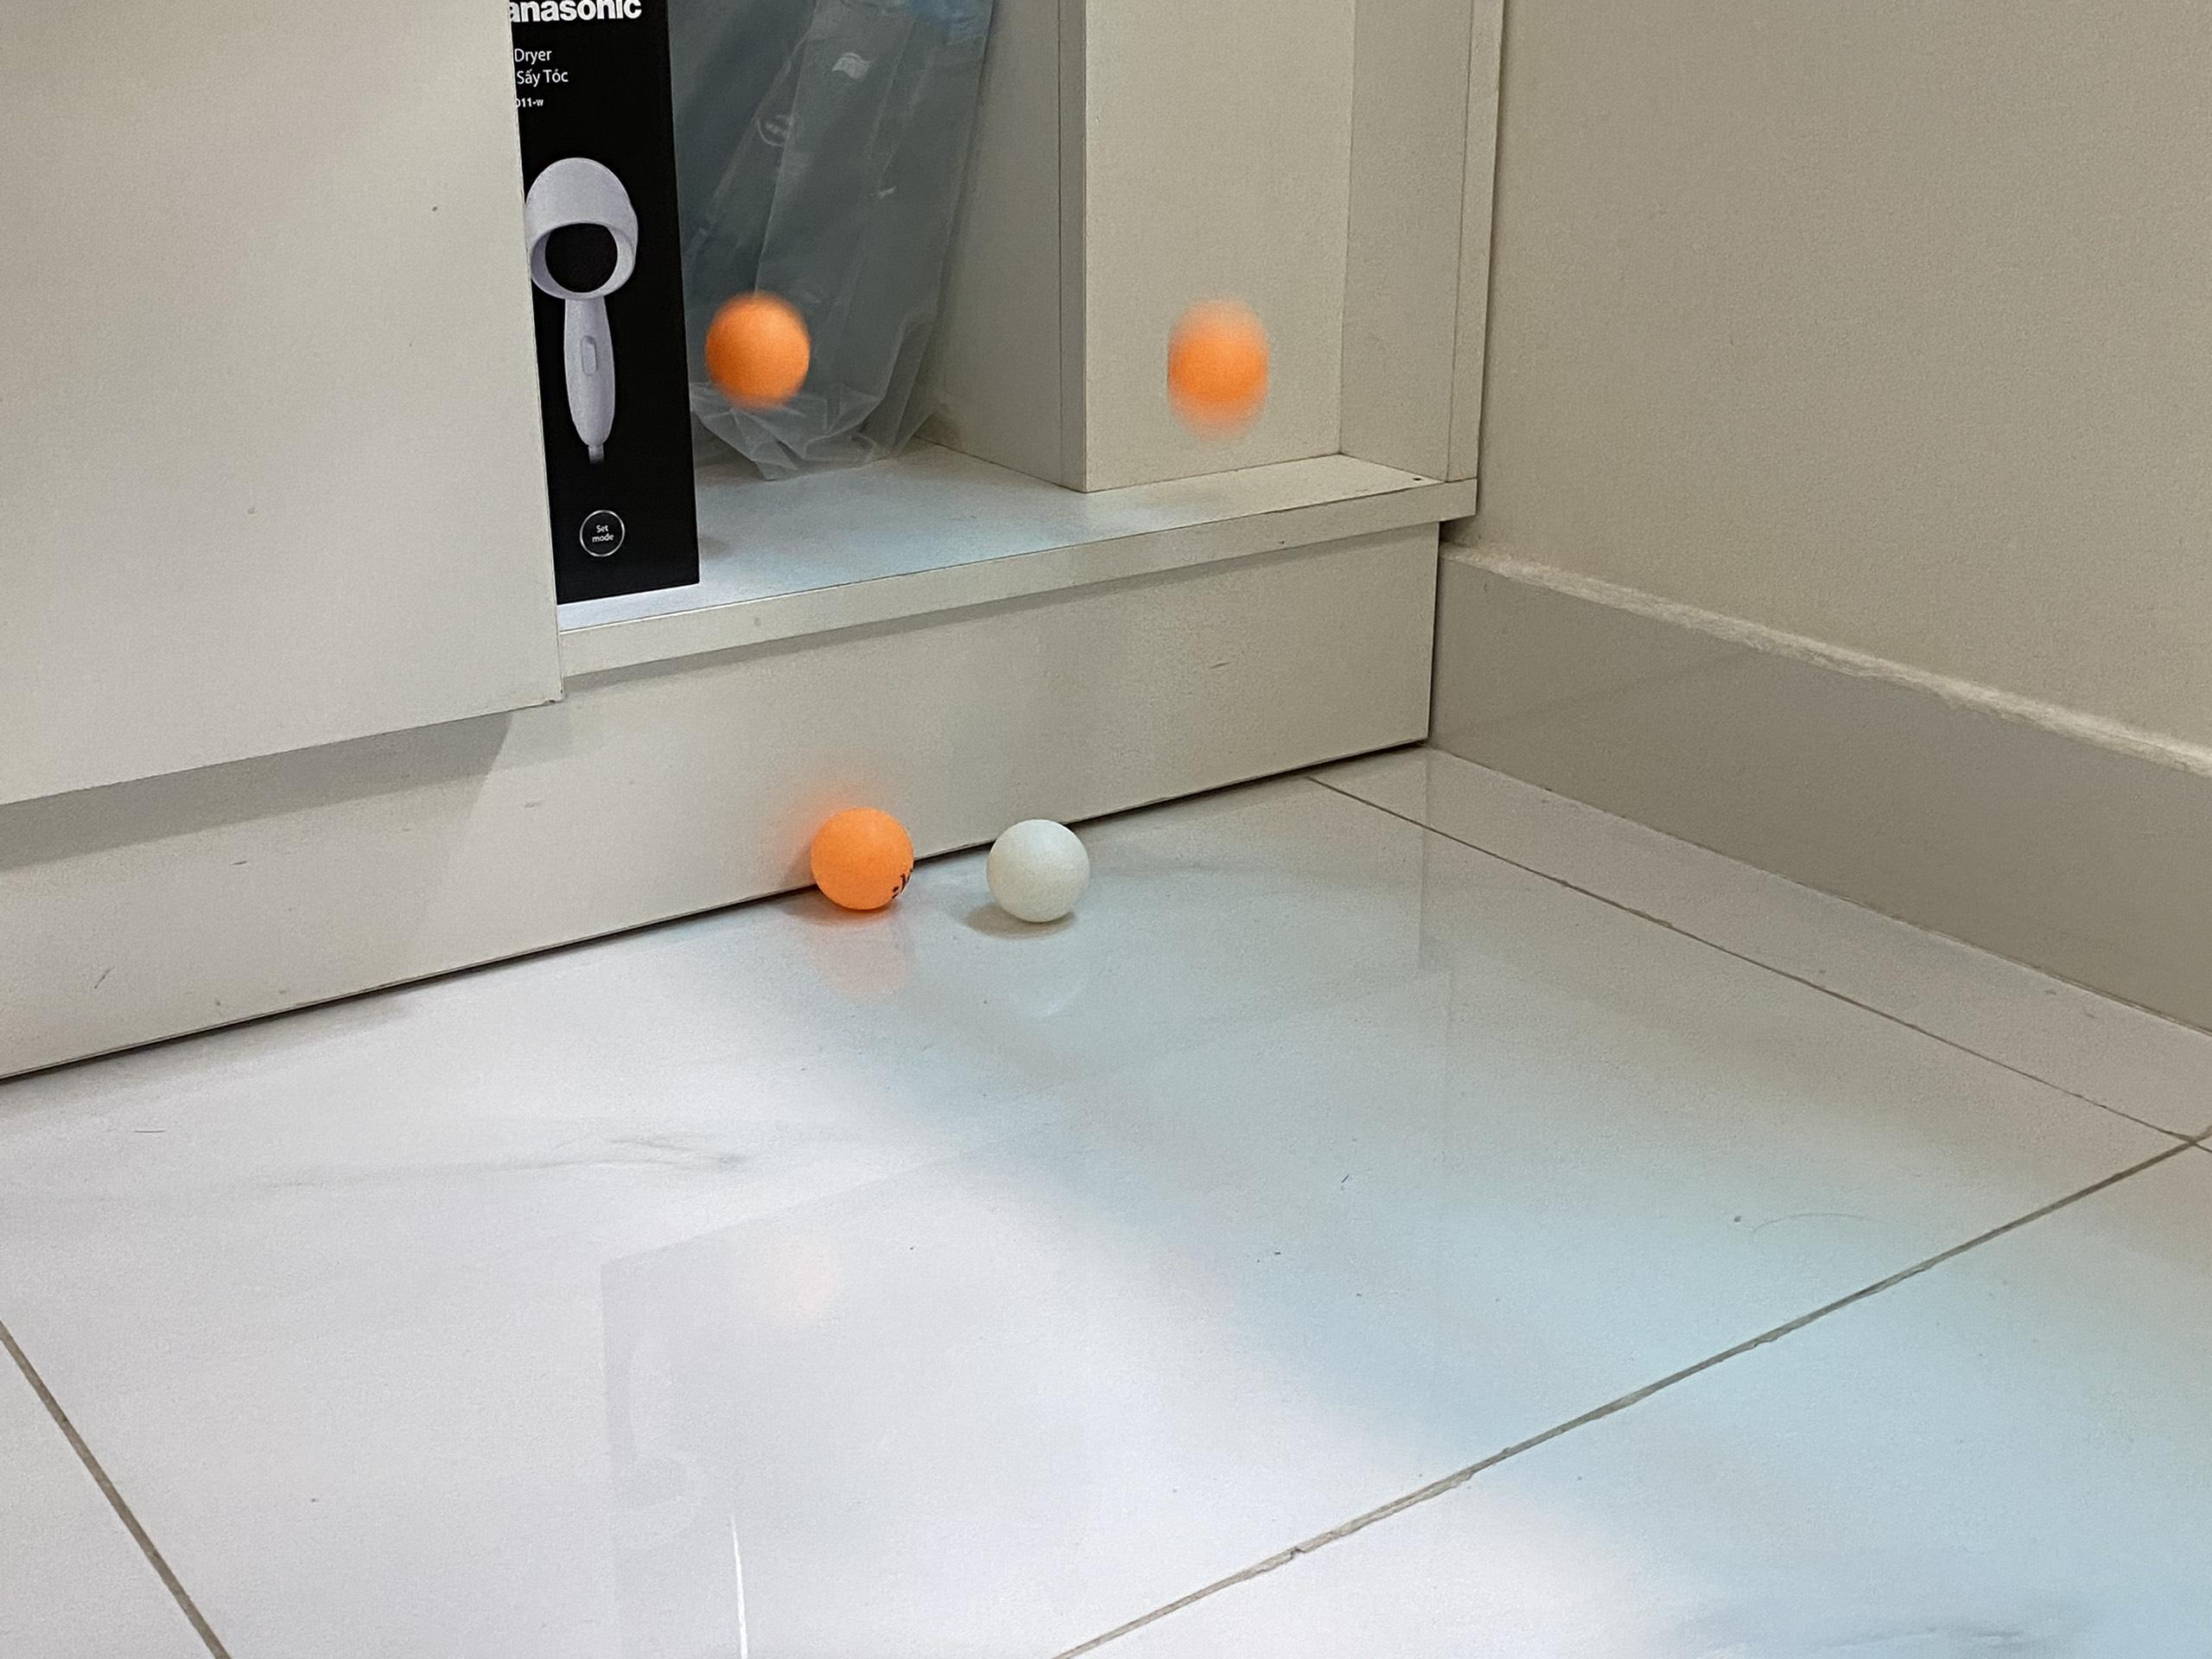oball: (1167, 307, 1271, 439), (812, 809, 916, 910), (709, 298, 808, 404)
